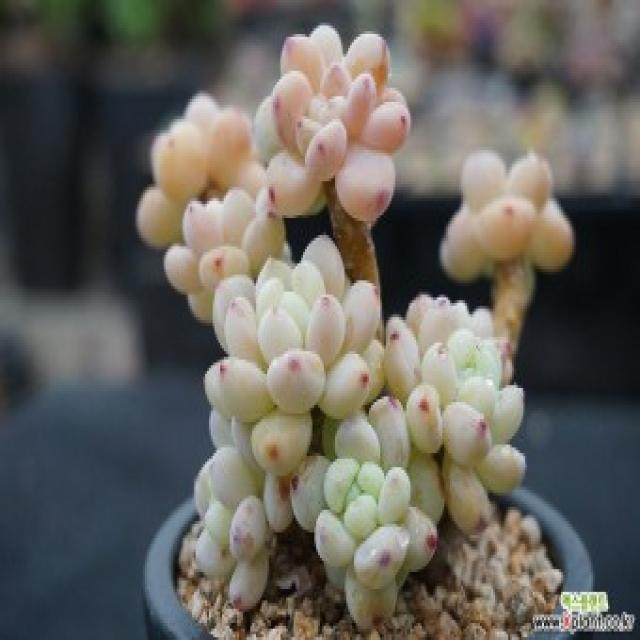LumiRose: (205, 235, 380, 480), (290, 395, 444, 631), (384, 297, 525, 534), (255, 26, 410, 225), (440, 150, 574, 281)
